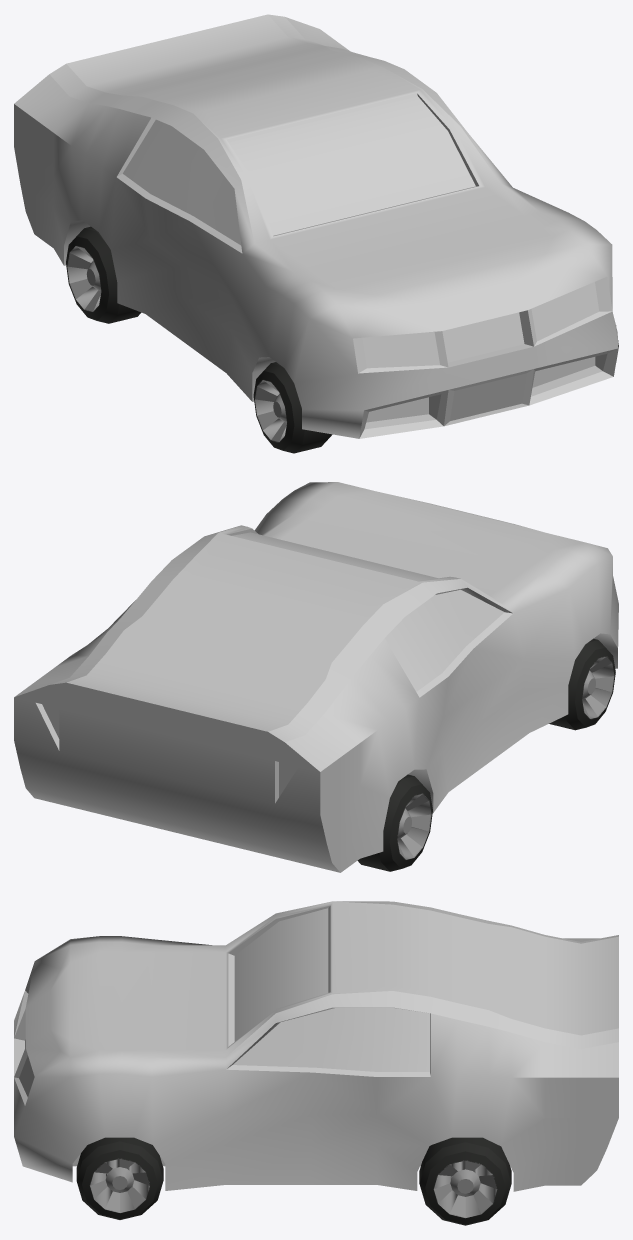
The model's file is auto3.fbx.
3 views of the same model, one above another, from view 1: azimuth 30°, elevation 25°; view 2: azimuth 150°, elevation 25°; view 3: azimuth 270°, elevation 25° (orthographic). The views are drawn at different scales.
Parts seen in each view (by area): view 1: auto1, rechts_achter, rechts_voor; view 2: auto1, rechts_achter, rechts_voor; view 3: auto1, links_achter, links_voor.
Boxes of the visible parts, left/top/right/bottom form: auto1: left=14, top=14, right=618, bottom=438; rechts_achter: left=66, top=226, right=141, bottom=323; rechts_voor: left=253, top=362, right=332, bottom=453; auto1: left=14, top=482, right=618, bottom=872; rechts_achter: left=357, top=774, right=432, bottom=871; rechts_voor: left=549, top=638, right=615, bottom=730; auto1: left=14, top=901, right=618, bottom=1191; links_achter: left=419, top=1137, right=511, bottom=1225; links_voor: left=76, top=1137, right=163, bottom=1219.
Size of the model in its own units: 2.1 by 1.33 by 3.54.
